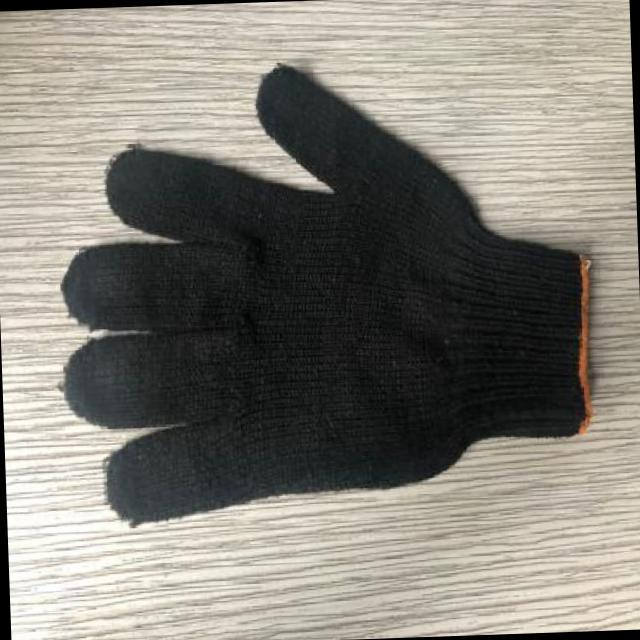glove: (60, 51, 596, 532)
